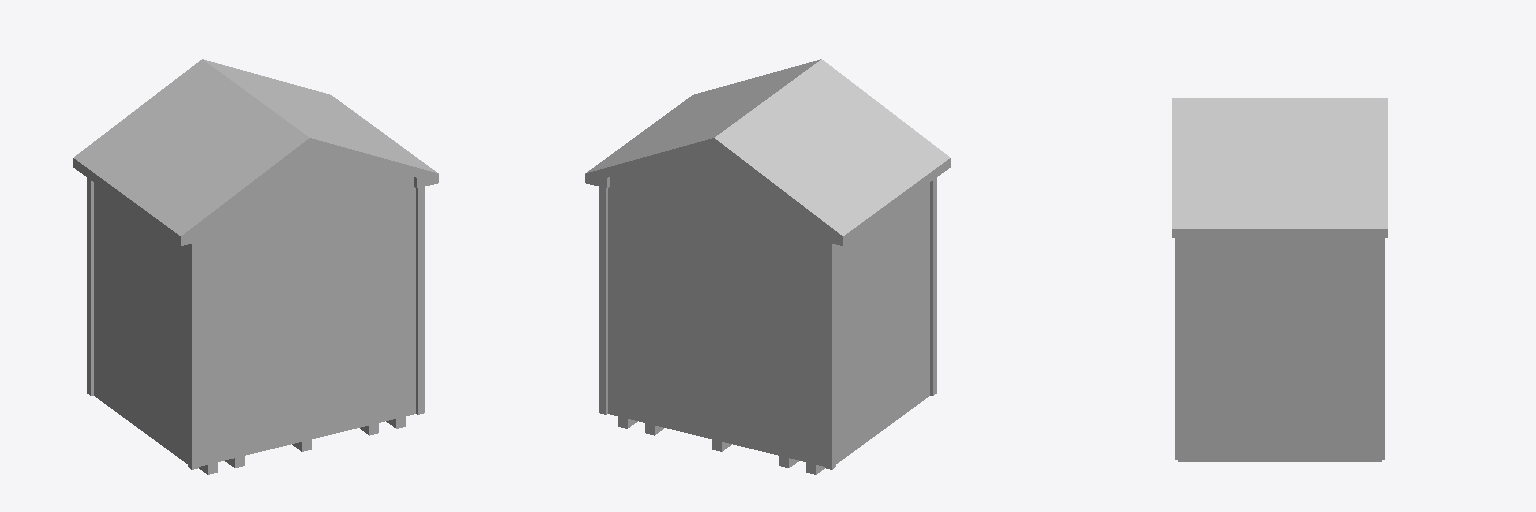
File: 8 wide A-frame_7ft_6x8.obj
3 renders of one model, left to right at view 1: azimuth 30°, elevation 25°; view 2: azimuth 150°, elevation 25°; view 3: azimuth 270°, elevation 25°, orthographic.
Parts seen in each view (by area): view 1: 8 wide A-frame_7ft_6x8.obj; view 2: 8 wide A-frame_7ft_6x8.obj; view 3: 8 wide A-frame_7ft_6x8.obj.
Boxes of the visible parts, <box> form: 8 wide A-frame_7ft_6x8.obj: <box>73,59,438,474</box>; 8 wide A-frame_7ft_6x8.obj: <box>585,59,950,474</box>; 8 wide A-frame_7ft_6x8.obj: <box>1172,98,1387,461</box>.
Size of the model in its own units: 2.67 by 3.12 by 1.93.